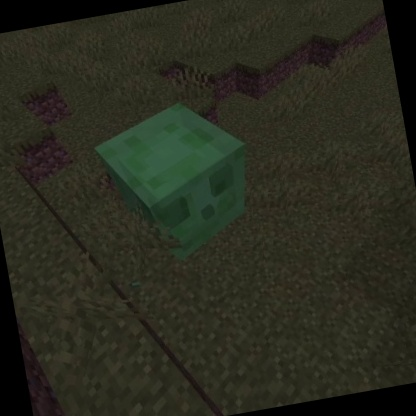slime: (86, 88, 267, 276)
